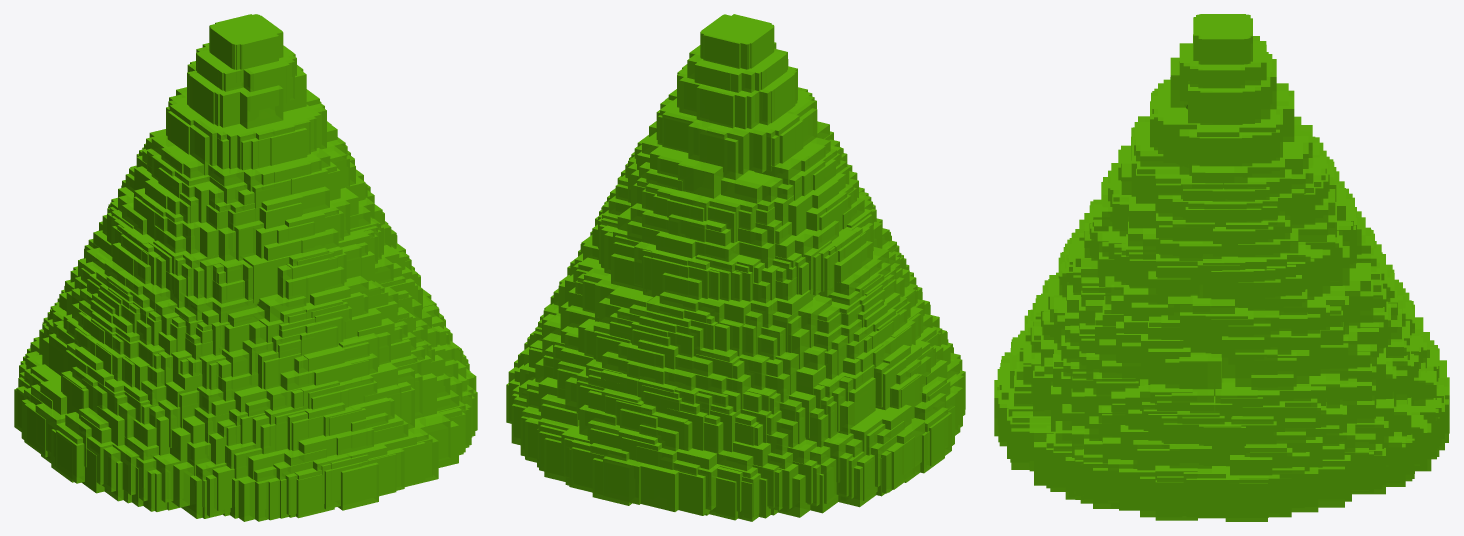
Rendered from EarthStoneDust.fbx.
3 renders of one model, left to right at view 1: azimuth 30°, elevation 25°; view 2: azimuth 150°, elevation 25°; view 3: azimuth 270°, elevation 25°, orthographic.
Parts seen in each view (by area): view 1: EarthStoneDust|Cube.001|Dupli|863, EarthStoneDust|Cube.001|Dupli|619, EarthStoneDust|Cube.001|Dupli|1268, EarthStoneDust|Cube.001|Dupli|153, EarthStoneDust|Cube.001|Dupli|168, EarthStoneDust|Cube.001|Dupli|369, EarthStoneDust|Cube.001|Dupli|983, EarthStoneDust|Cube.001|Dupli|1461, EarthStoneDust|Cube.001|Dupli|201, EarthStoneDust|Cube.001|Dupli|618, EarthStoneDust|Cube.001|Dupli|205, EarthStoneDust|Cube.001|Dupli|679 (+63 smaller); view 2: EarthStoneDust|Cube.001|Dupli|670, EarthStoneDust|Cube.001|Dupli|1034, EarthStoneDust|Cube.001|Dupli|1298, EarthStoneDust|Cube.001|Dupli|912, EarthStoneDust|Cube.001|Dupli|187, EarthStoneDust|Cube.001|Dupli|1402, EarthStoneDust|Cube.001|Dupli|49, EarthStoneDust|Cube.001|Dupli|567, EarthStoneDust|Cube.001|Dupli|148, EarthStoneDust|Cube.001|Dupli|618, EarthStoneDust|Cube.001|Dupli|1502, EarthStoneDust|Cube.001|Dupli|1090 (+72 smaller); view 3: EarthStoneDust|Cube.001|Dupli|982, EarthStoneDust|Cube.001|Dupli|374, EarthStoneDust|Cube.001|Dupli|1123, EarthStoneDust|Cube.001|Dupli|936, EarthStoneDust|Cube.001|Dupli|1000, EarthStoneDust|Cube.001|Dupli|211, EarthStoneDust|Cube.001|Dupli|953, EarthStoneDust|Cube.001|Dupli|213, EarthStoneDust|Cube.001|Dupli|1111, EarthStoneDust|Cube.001|Dupli|1087, EarthStoneDust|Cube.001|Dupli|985, EarthStoneDust|Cube.001|Dupli|1654 (+77 smaller).
Part boxes in pixels (x1=…): EarthStoneDust|Cube.001|Dupli|863: x1=237, y1=85, x2=283, y2=128; EarthStoneDust|Cube.001|Dupli|619: x1=338, y1=462, x2=378, y2=510; EarthStoneDust|Cube.001|Dupli|1268: x1=243, y1=255, x2=289, y2=303; EarthStoneDust|Cube.001|Dupli|153: x1=56, y1=430, x2=84, y2=483; EarthStoneDust|Cube.001|Dupli|168: x1=270, y1=128, x2=307, y2=165; EarthStoneDust|Cube.001|Dupli|369: x1=296, y1=474, x2=334, y2=518; EarthStoneDust|Cube.001|Dupli|983: x1=223, y1=21, x2=278, y2=69; EarthStoneDust|Cube.001|Dupli|1461: x1=243, y1=63, x2=286, y2=104; EarthStoneDust|Cube.001|Dupli|201: x1=415, y1=412, x2=450, y2=461; EarthStoneDust|Cube.001|Dupli|618: x1=24, y1=402, x2=47, y2=457; EarthStoneDust|Cube.001|Dupli|205: x1=401, y1=442, x2=425, y2=485; EarthStoneDust|Cube.001|Dupli|679: x1=285, y1=272, x2=324, y2=303; EarthStoneDust|Cube.001|Dupli|670: x1=639, y1=463, x2=679, y2=511; EarthStoneDust|Cube.001|Dupli|1034: x1=603, y1=456, x2=642, y2=504; EarthStoneDust|Cube.001|Dupli|1298: x1=688, y1=120, x2=731, y2=172; EarthStoneDust|Cube.001|Dupli|912: x1=678, y1=158, x2=723, y2=198; EarthStoneDust|Cube.001|Dupli|187: x1=696, y1=84, x2=734, y2=128; EarthStoneDust|Cube.001|Dupli|1402: x1=662, y1=104, x2=701, y2=152; EarthStoneDust|Cube.001|Dupli|49: x1=678, y1=472, x2=710, y2=515; EarthStoneDust|Cube.001|Dupli|567: x1=703, y1=20, x2=754, y2=68; EarthStoneDust|Cube.001|Dupli|148: x1=721, y1=172, x2=772, y2=203; EarthStoneDust|Cube.001|Dupli|618: x1=886, y1=436, x2=914, y2=489; EarthStoneDust|Cube.001|Dupli|1502: x1=571, y1=447, x2=607, y2=490; EarthStoneDust|Cube.001|Dupli|1090: x1=733, y1=119, x2=782, y2=172; EarthStoneDust|Cube.001|Dupli|982: x1=1197, y1=466, x2=1239, y2=518; EarthStoneDust|Cube.001|Dupli|374: x1=1179, y1=352, x2=1221, y2=396; EarthStoneDust|Cube.001|Dupli|1123: x1=1200, y1=88, x2=1242, y2=124; EarthStoneDust|Cube.001|Dupli|936: x1=1203, y1=426, x2=1245, y2=466; EarthStoneDust|Cube.001|Dupli|1000: x1=1199, y1=132, x2=1241, y2=166; EarthStoneDust|Cube.001|Dupli|211: x1=1238, y1=279, x2=1280, y2=315; EarthStoneDust|Cube.001|Dupli|953: x1=1235, y1=349, x2=1277, y2=386; EarthStoneDust|Cube.001|Dupli|213: x1=1155, y1=480, x2=1197, y2=520; EarthStoneDust|Cube.001|Dupli|1111: x1=1225, y1=483, x2=1267, y2=521; EarthStoneDust|Cube.001|Dupli|1087: x1=1202, y1=22, x2=1244, y2=64; EarthStoneDust|Cube.001|Dupli|985: x1=1318, y1=466, x2=1344, y2=507; EarthStoneDust|Cube.001|Dupli|1654: x1=1222, y1=336, x2=1264, y2=378.
Size of what is drawn, in the model's own units: 1.07 by 1.04 by 1.08.
